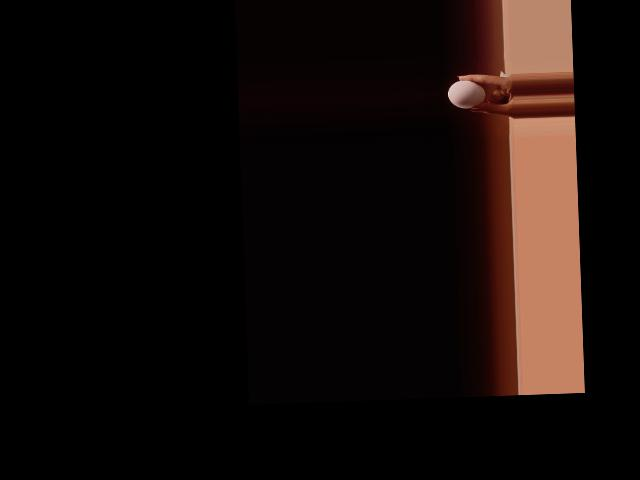egg: (447, 79, 486, 109)
